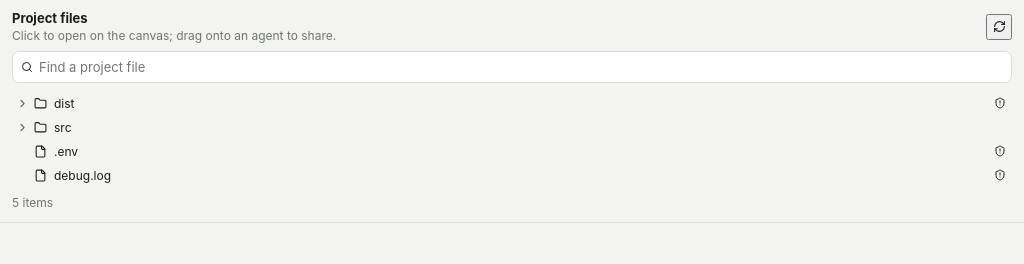
Test case: WorkspaceProjectTree › expands ignored folders by listing them on demand, shield kept
This screenshot has width=1024, height=264.
Click the list item with aria-label "Expand folder dist" at x=22, y=103, box left=12, top=91, right=1012, bottom=115
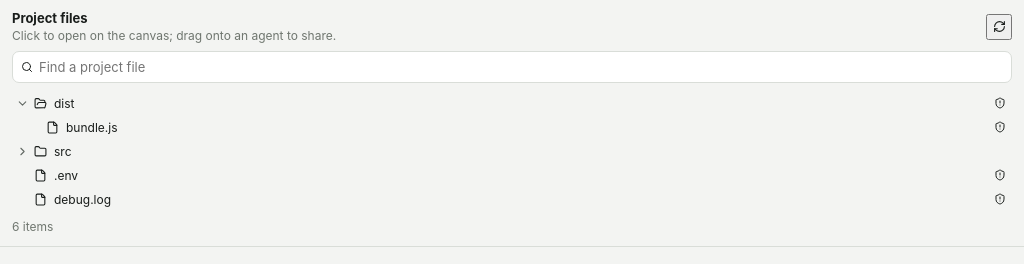
Result: the list item with aria-label "Ignored file dist/bundle.js" is shown at left=12, top=115, right=1012, bottom=139
